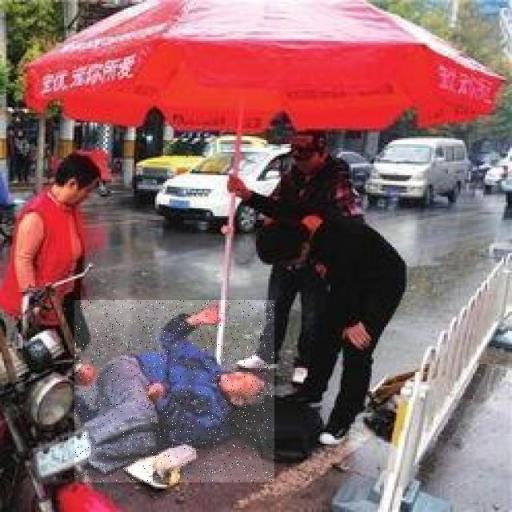Fall: (75, 300, 275, 482)
